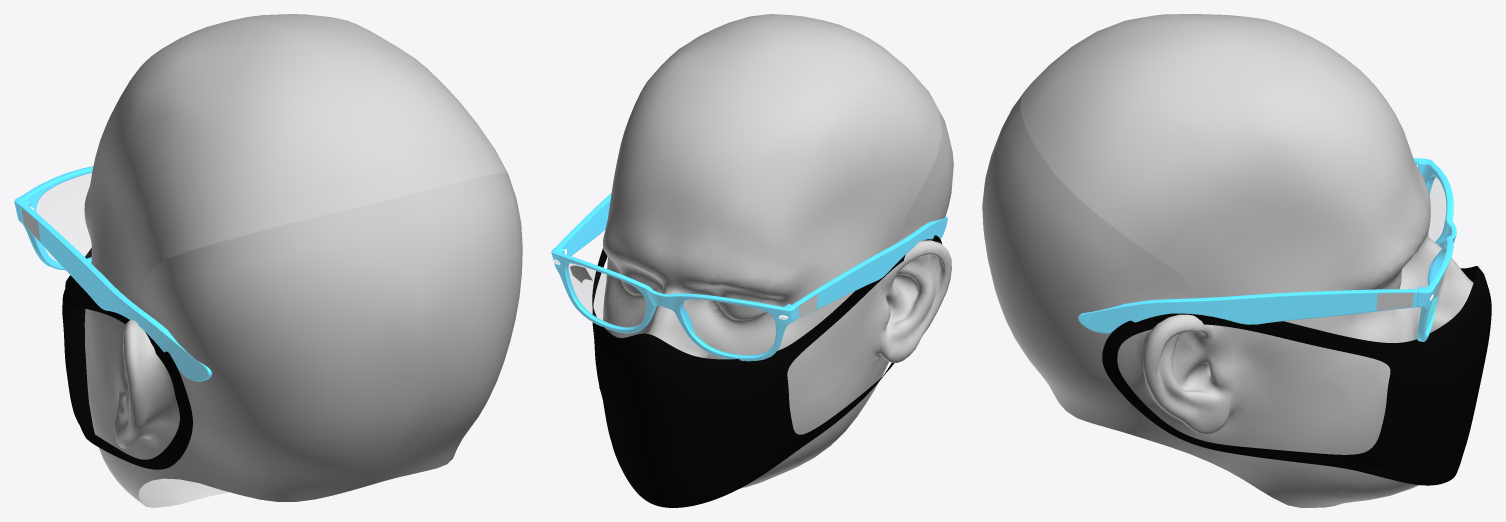
File: mask.gltf
The picture shows the model from 3 angles, left to right: view 1: azimuth 30°, elevation 25°; view 2: azimuth 150°, elevation 25°; view 3: azimuth 270°, elevation 25°; orthographic projection. The views are drawn at different scales.
Parts seen in each view (by area): view 1: occlusion_mesh, Mask, bow_l_outer, glass, front_inner, bow_l_inner; view 2: occlusion_mesh, Mask, glass, front, bow_l_outer, front_inner, bow_r_inner, bow_l_inner; view 3: occlusion_mesh, Mask, bow_r_outer, front_inner, bow_r_inner, glass, logo_important_2.
Boxes of the visible parts, <box> form: occlusion_mesh: <box>84,14,522,507</box>; Mask: <box>62,248,192,469</box>; bow_l_outer: <box>19,205,208,381</box>; glass: <box>37,173,91,259</box>; front_inner: <box>14,166,93,270</box>; bow_l_inner: <box>20,203,212,381</box>; occlusion_mesh: <box>603,14,953,489</box>; Mask: <box>592,235,942,507</box>; glass: <box>567,264,775,355</box>; front: <box>551,252,791,361</box>; bow_l_outer: <box>796,217,947,318</box>; front_inner: <box>551,247,796,356</box>; bow_r_inner: <box>556,193,611,255</box>; bow_l_inner: <box>792,216,946,305</box>; occlusion_mesh: <box>982,14,1473,507</box>; Mask: <box>1102,266,1491,485</box>; bow_r_outer: <box>1078,292,1417,333</box>; front_inner: <box>1416,158,1456,341</box>; bow_r_inner: <box>1078,289,1418,324</box>; glass: <box>1426,177,1445,329</box>; logo_important_2: <box>1376,293,1413,310</box>.
Size of the model in its own units: 163 by 206 by 206.
